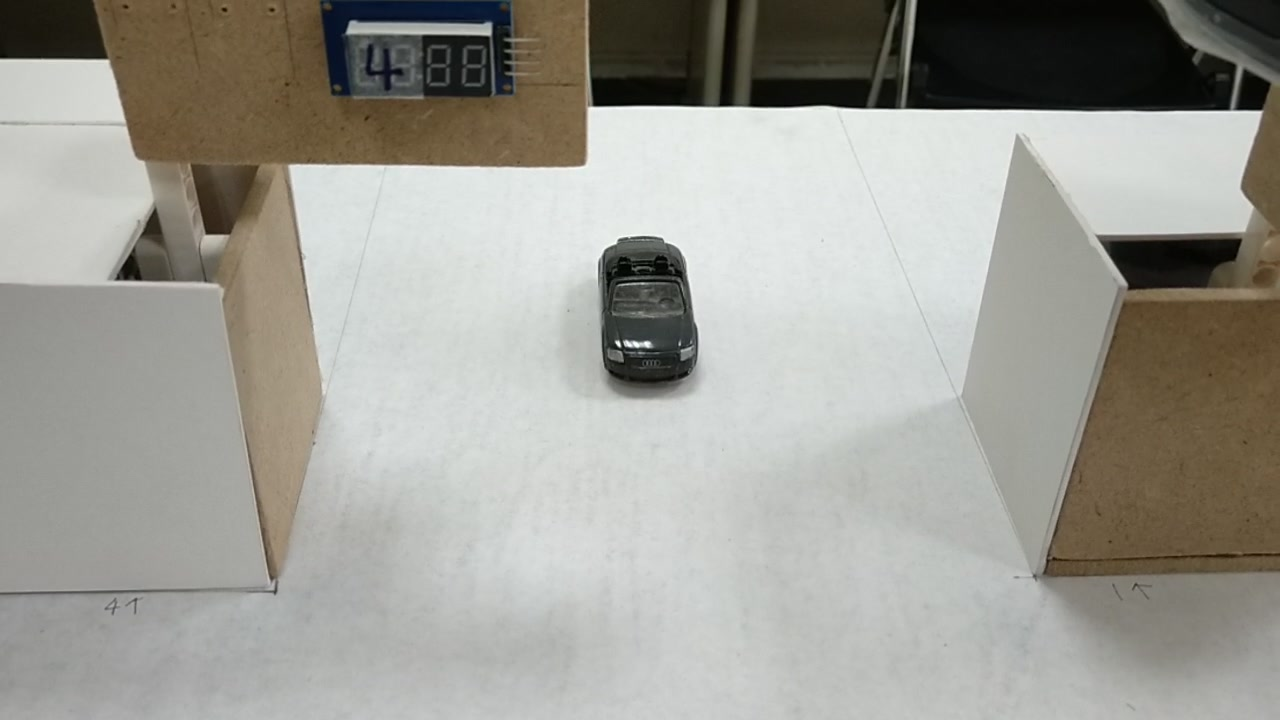car: (591, 238, 703, 379)
